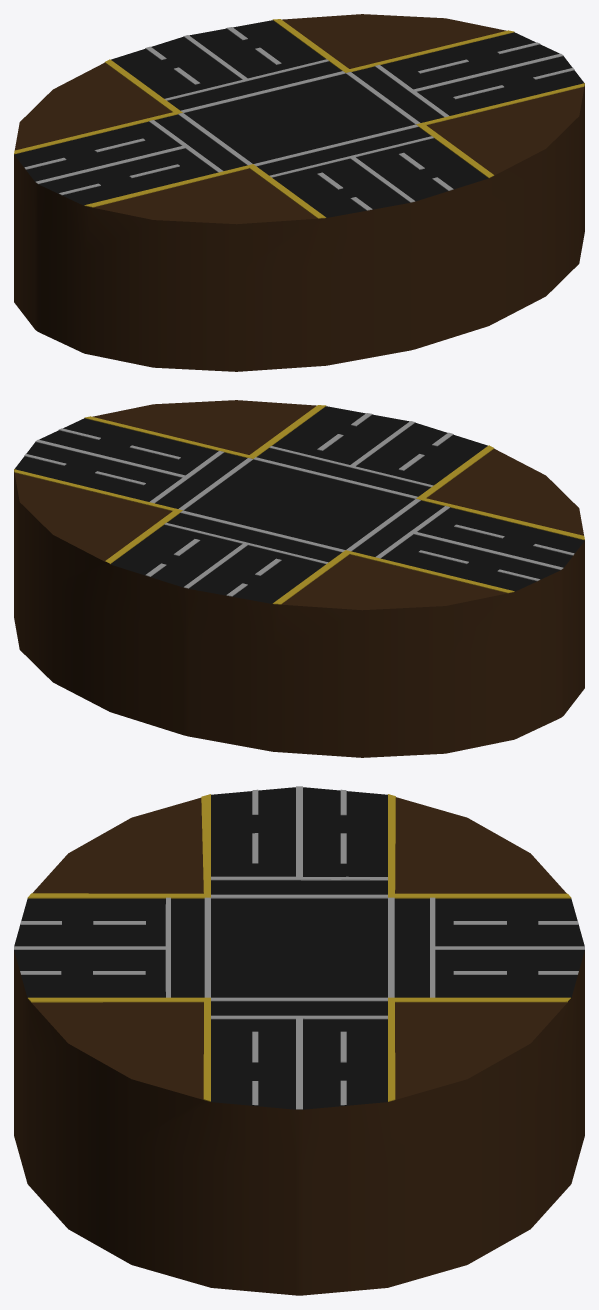
The model's file is Map.FBX.
3 views of the same model, one above another, from view 1: azimuth 30°, elevation 25°; view 2: azimuth 150°, elevation 25°; view 3: azimuth 270°, elevation 25° (orthographic). The views are drawn at different scales.
Parts seen in each view (by area): view 1: Cylinder001; view 2: Cylinder001; view 3: Cylinder001.
Boxes of the visible parts, x1,y1,x2,y2 form: Cylinder001: (14,14,584,371); Cylinder001: (14,400,584,757); Cylinder001: (14,786,584,1295).
Bounding box in the file's own units: 72.33 × 19.52 × 54.11.
